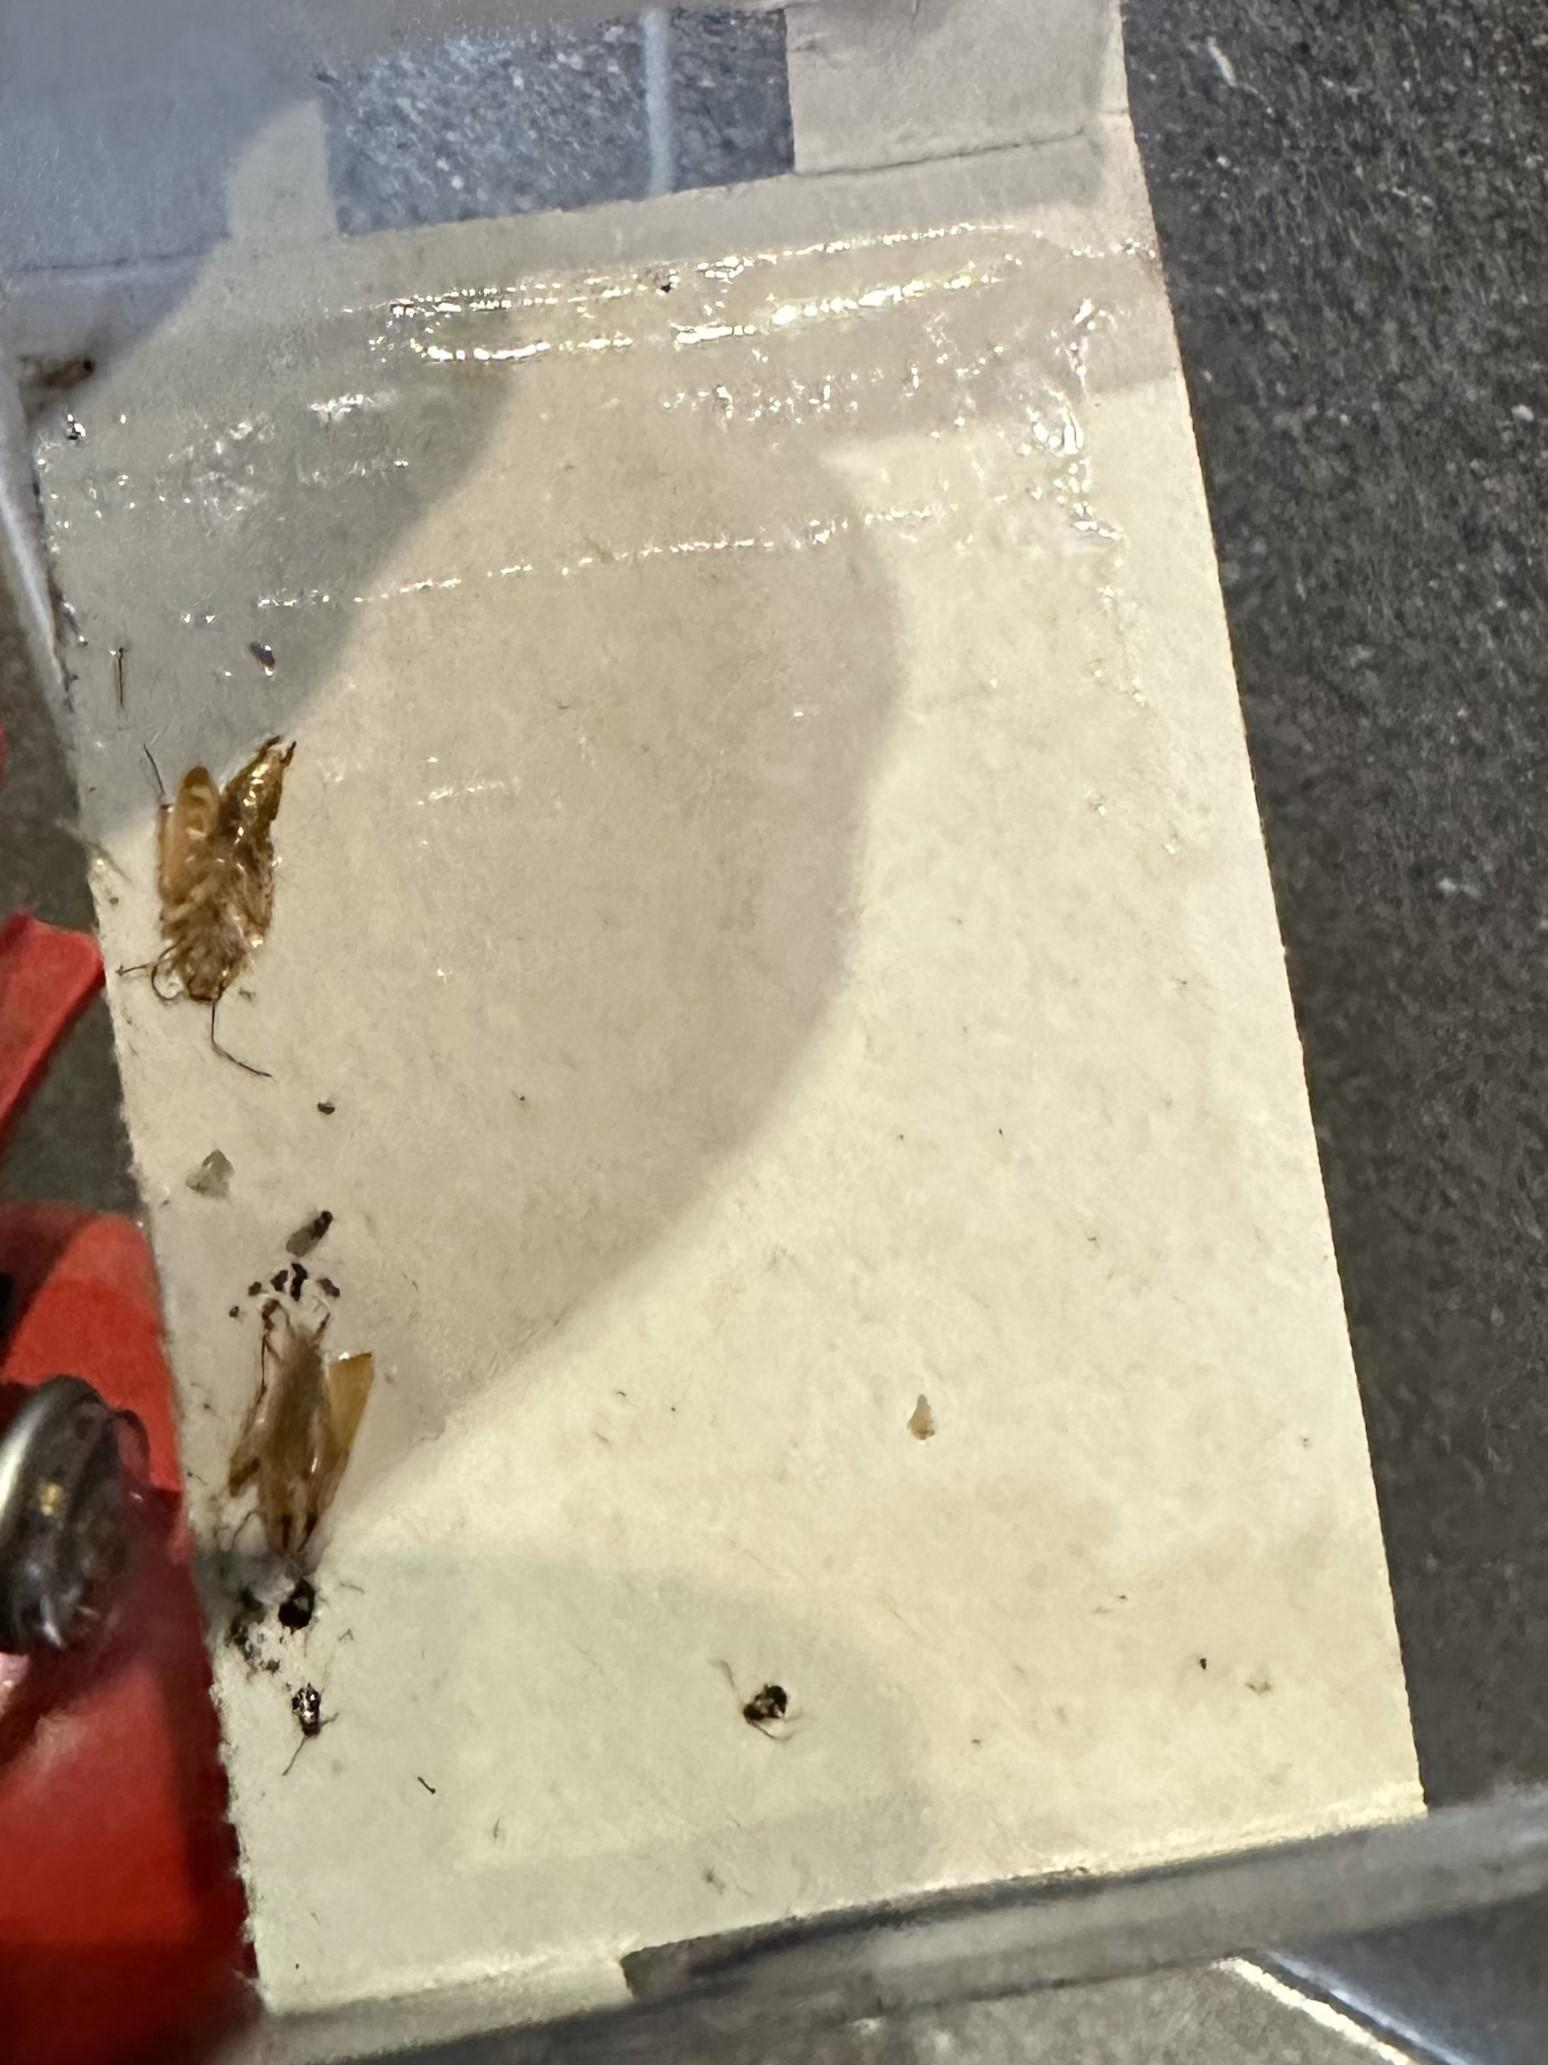cockroach: (50, 641, 338, 1140), (176, 1255, 420, 1680)
